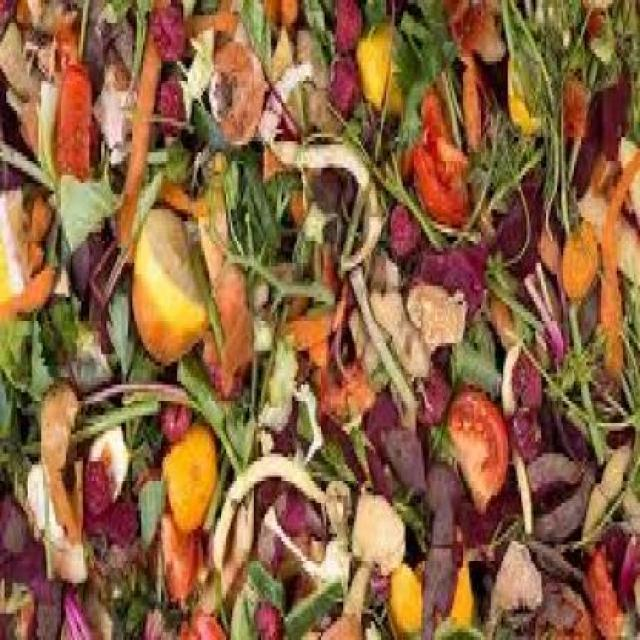garbage: (10, 15, 626, 614)
